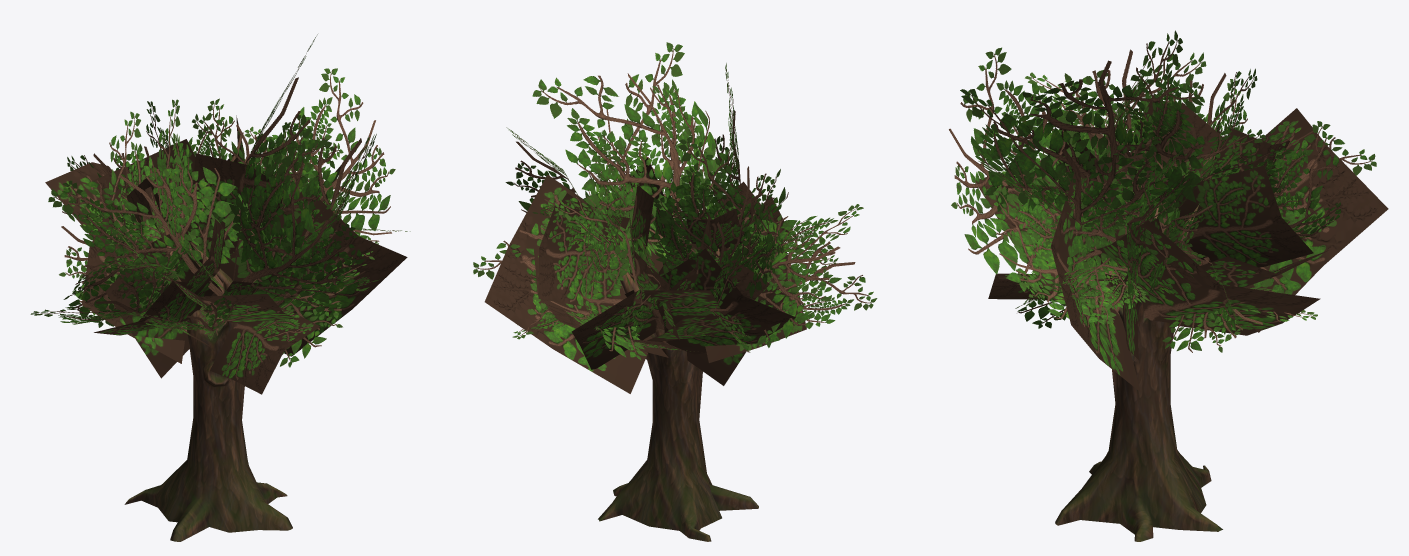
File: ForestTree.fbx
3 views of the same model, side by side, from view 1: azimuth 30°, elevation 25°; view 2: azimuth 150°, elevation 25°; view 3: azimuth 270°, elevation 25° (orthographic). The views are drawn at different scales.
Parts seen in each view (by area): view 1: Galhos_low107; view 2: Galhos_low107; view 3: Galhos_low107.
Boxes of the visible parts, x1,y1,x2,y2 form: Galhos_low107: (30,34,410,541); Galhos_low107: (473,42,877,541); Galhos_low107: (949,30,1388,541).
Size of the model in its own units: 901 by 891 by 771.
